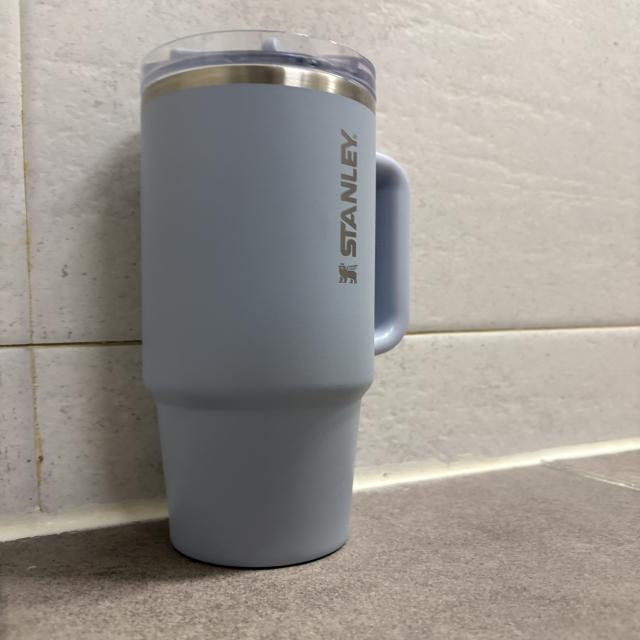waterbottle: (143, 27, 408, 567)
